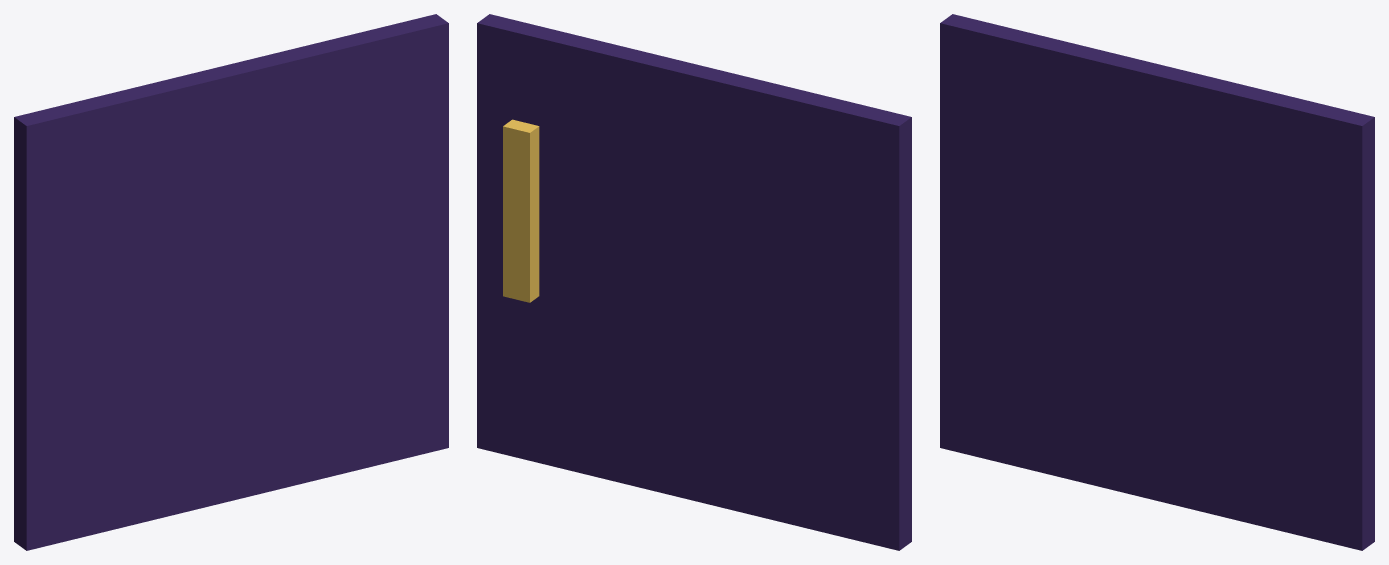
The model's file is porta_cor.gltf.
3 views of the same model, side by side, from view 1: azimuth 30°, elevation 25°; view 2: azimuth 150°, elevation 25°; view 3: azimuth 330°, elevation 25° (orthographic).
Visible parts, largest first — view 1: portinha; view 2: portinha, puxador; view 3: portinha.
Boxes of the visible parts, x1,y1,x2,y2 form: portinha: (14,14,448,550); portinha: (477,14,911,550); puxador: (503,119,539,302); portinha: (940,14,1374,550).
Bounding box in the file's own units: 0.4875 × 0.4688 × 0.0438.
3 materials, 2 textured.
